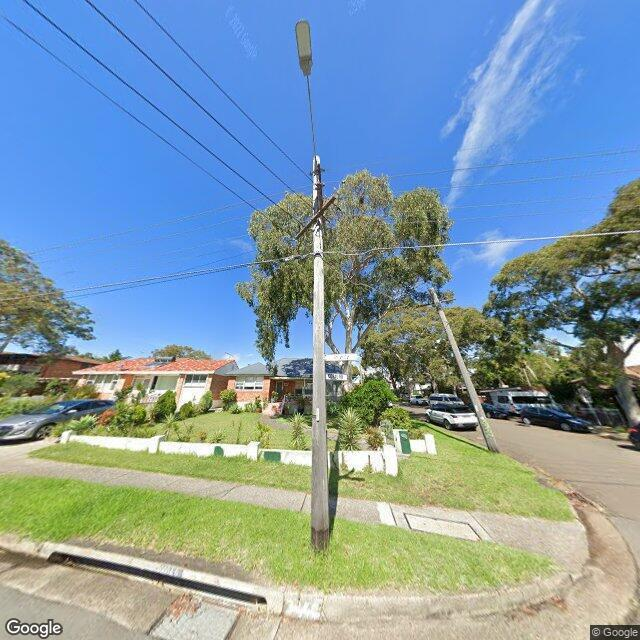crossarm: (294, 196, 337, 241), (416, 298, 456, 308)
streetlight: (296, 21, 319, 173)
timber-pole: (428, 287, 499, 454), (310, 155, 330, 554)
